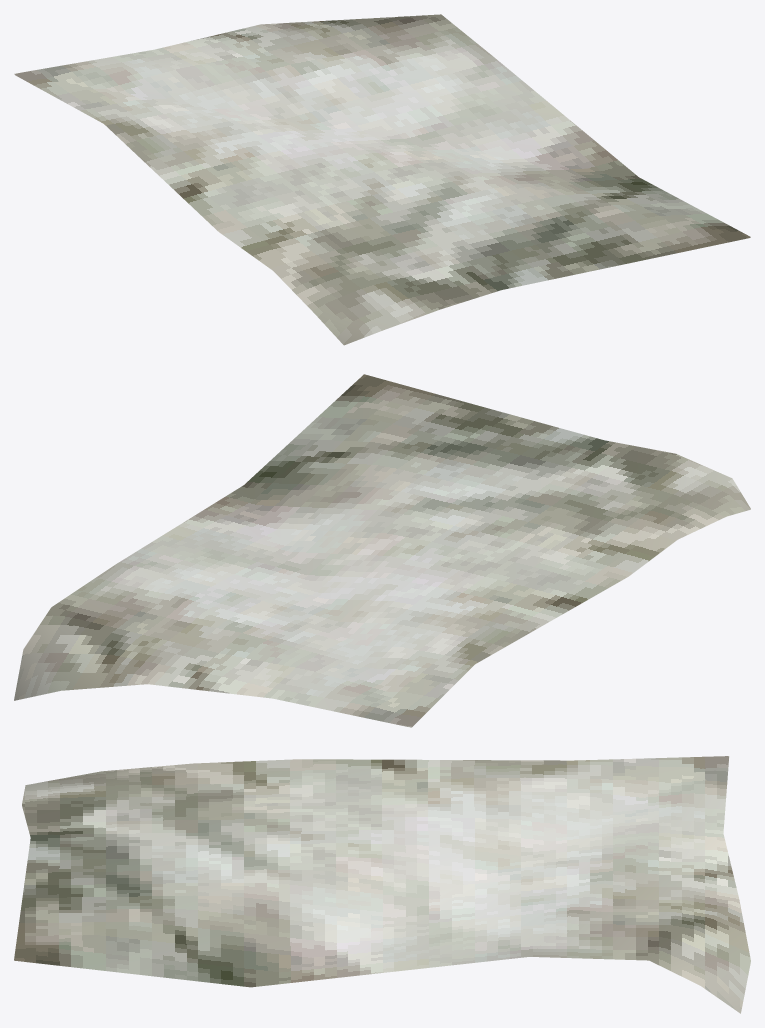
File: st_paper.glb
3 views of the same model, one above another, from view 1: azimuth 30°, elevation 25°; view 2: azimuth 150°, elevation 25°; view 3: azimuth 270°, elevation 25° (orthographic). The views are drawn at different scales.
Parts seen in each view (by area): view 1: st_paper-col; view 2: st_paper-col; view 3: st_paper-col.
Boxes of the visible parts, <box> form: st_paper-col: <box>14,14,750,345</box>; st_paper-col: <box>14,374,750,727</box>; st_paper-col: <box>14,756,750,1013</box>.
Size of the model in its own units: 0.2658 by 0.0422 by 0.4128.
1 material, 1 textured.
